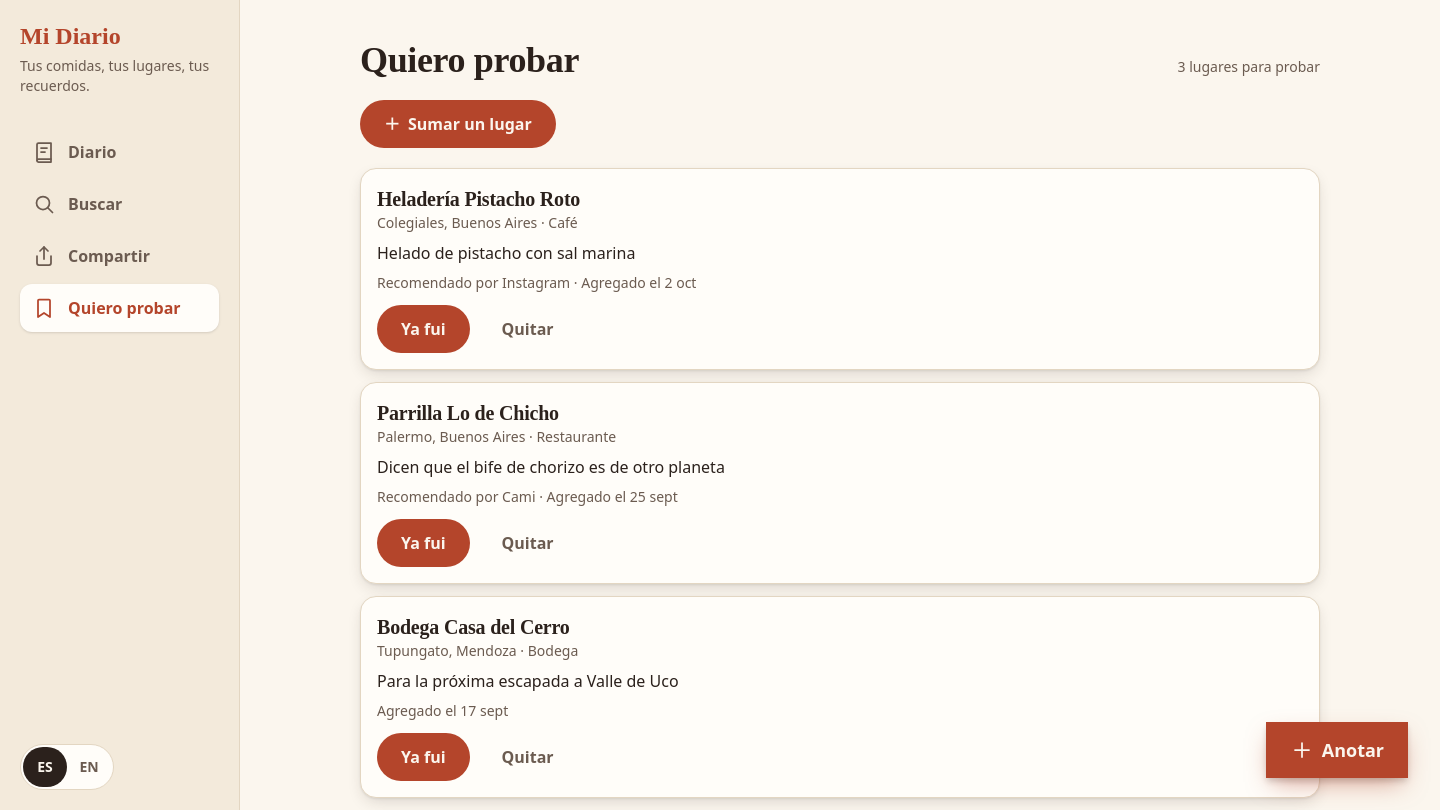
Test case: Wishlist ("Quiero probar") › removes an item
Click the button with aria-label "Quitar Parrilla Lo de Chicho de la lista".
click(528, 543)  # box 478,519 -> 578,567
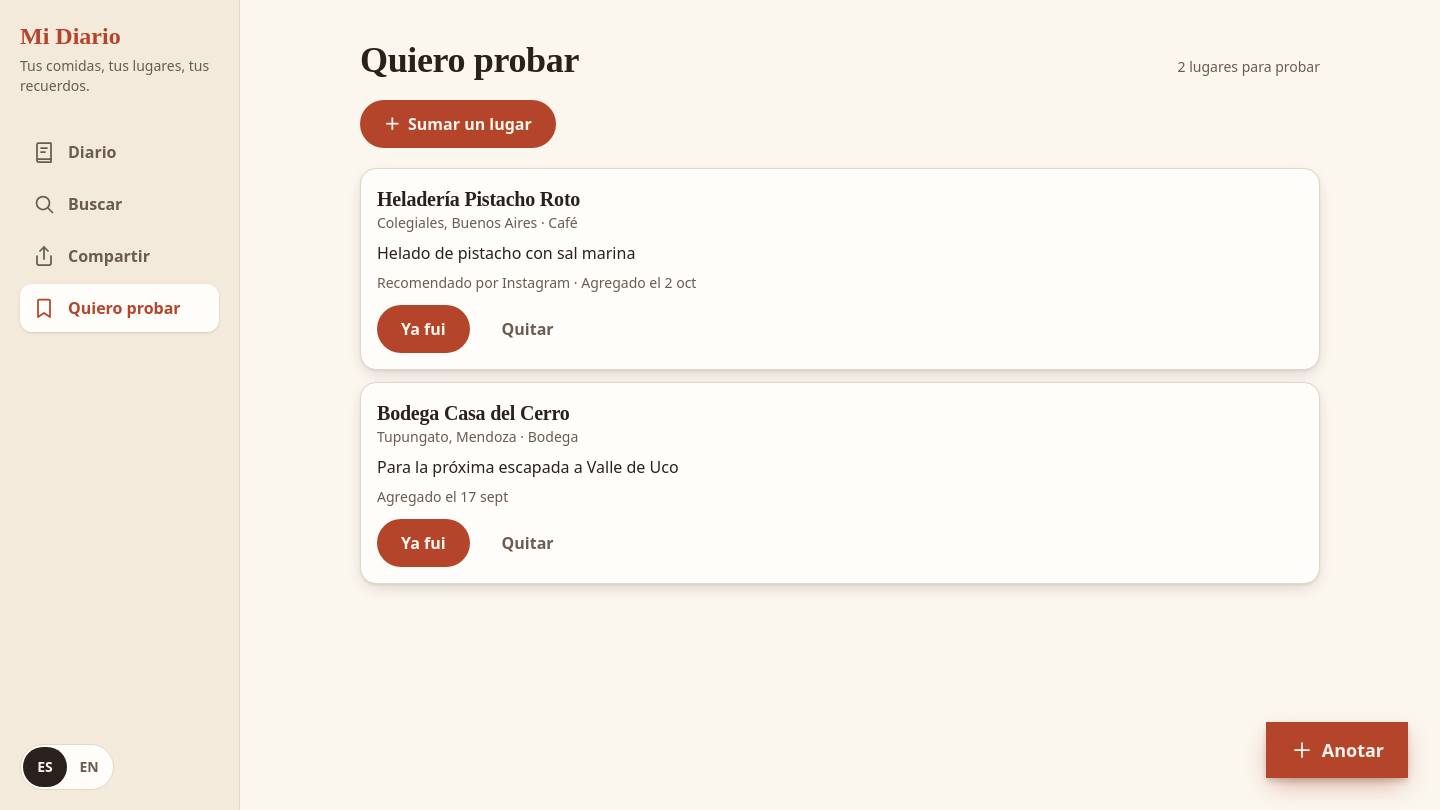
Now the text "2 lugares para probar" is shown, box 1178,57 -> 1320,77
Now the heading "Parrilla Lo de Chicho" is gone
